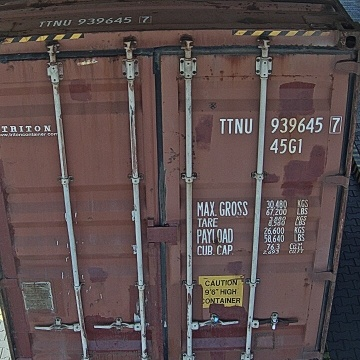serial_id: (220, 116, 341, 133)
